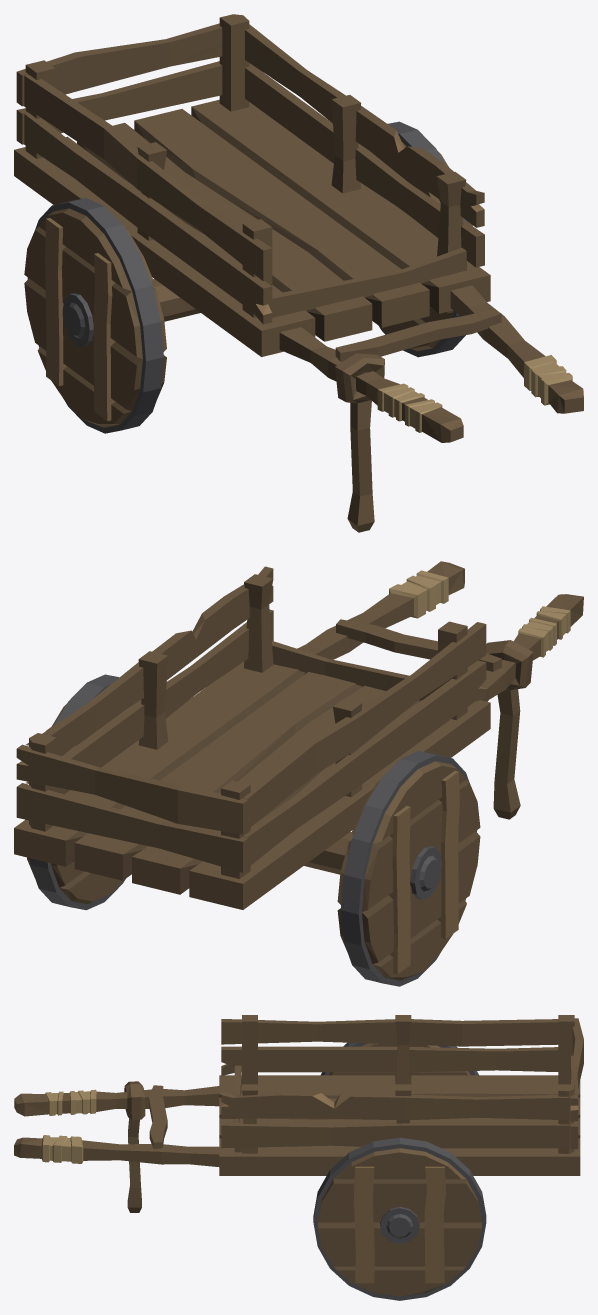
Rendered from cart.glb.
The picture shows the model from 3 angles, top to bottom: view 1: azimuth 30°, elevation 25°; view 2: azimuth 150°, elevation 25°; view 3: azimuth 270°, elevation 25°; orthographic projection. The views are drawn at different scales.
Parts seen in each view (by area): view 1: SM_Prop_Cart_01; view 2: SM_Prop_Cart_01; view 3: SM_Prop_Cart_01.
Boxes of the visible parts, x1,y1,x2,y2 form: SM_Prop_Cart_01: (14,14,583,532); SM_Prop_Cart_01: (14,561,583,986); SM_Prop_Cart_01: (14,1015,583,1300).
Size of the model in its own units: 167 by 115 by 315.
1 material, 1 textured.
